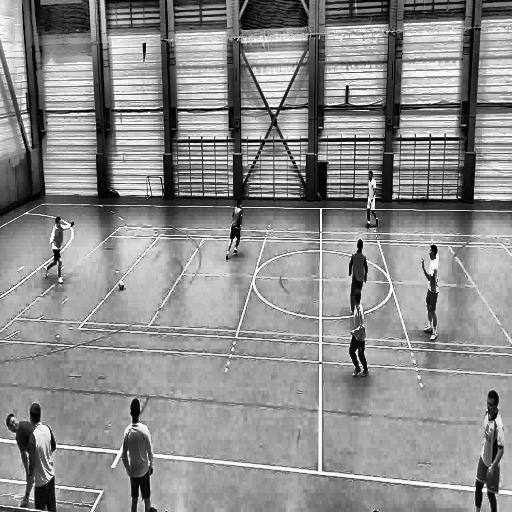ball: (117, 278, 126, 293)
player: (473, 387, 503, 512), (121, 399, 154, 512), (26, 403, 56, 512), (5, 412, 37, 510), (44, 216, 75, 285), (349, 288, 370, 380), (421, 244, 439, 346), (348, 238, 368, 316), (226, 198, 243, 262), (365, 170, 380, 229)
